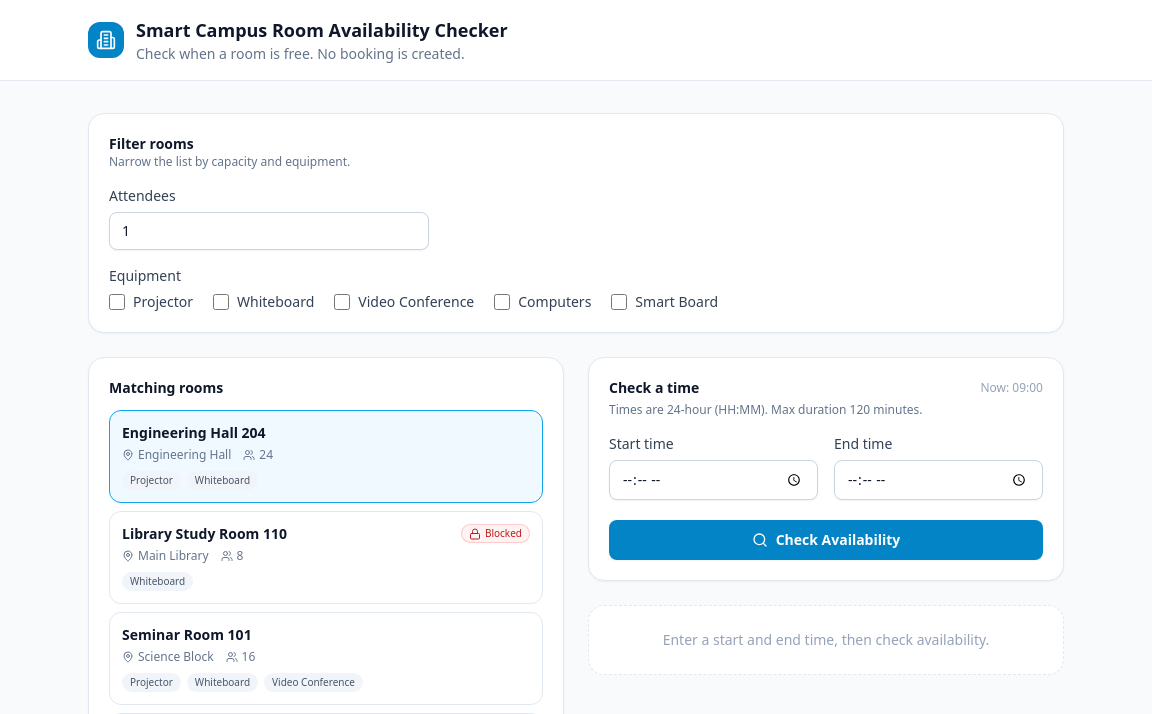
Test: UI integration (fixed clock 09:00) › U4 F3/AC3: the blocked room stays visible but a free slot is reported Unavailable
Step 1. Click the button "Library Study Room 110 Main Library 8 Blocked Whiteboard" → (204, 534), box [109,511,543,604]
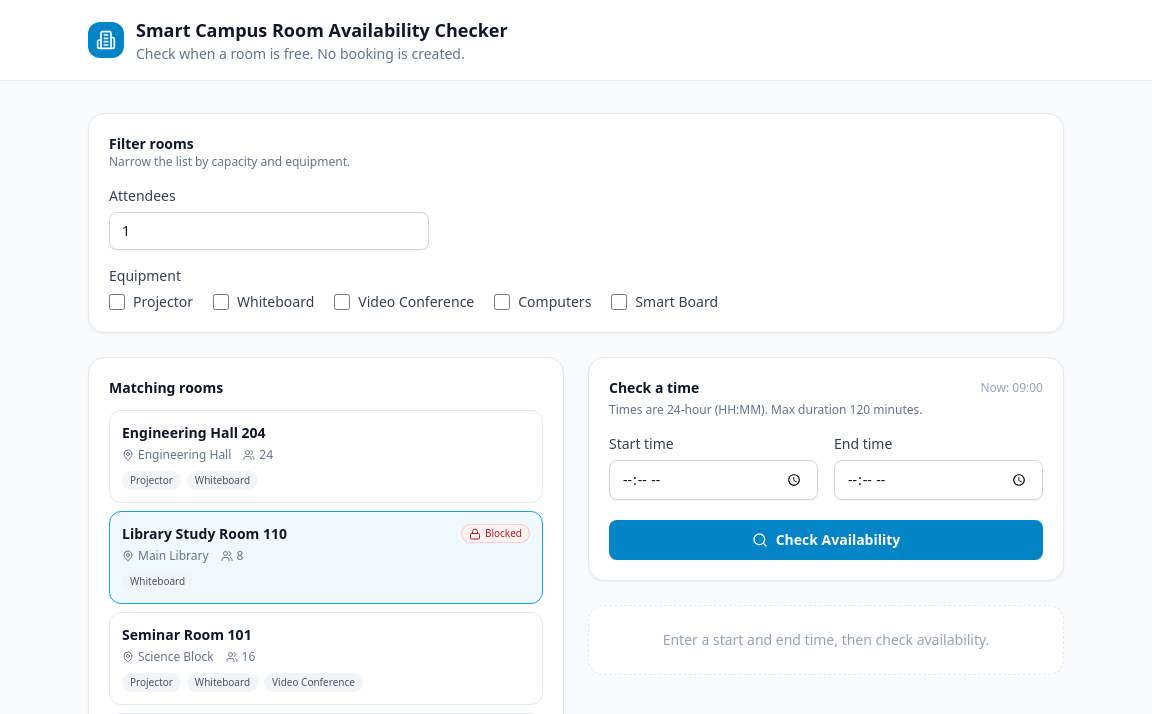
Step 2. Type "12:00" into the time field labelled "Start time" → (714, 480), box [609,460,818,500]
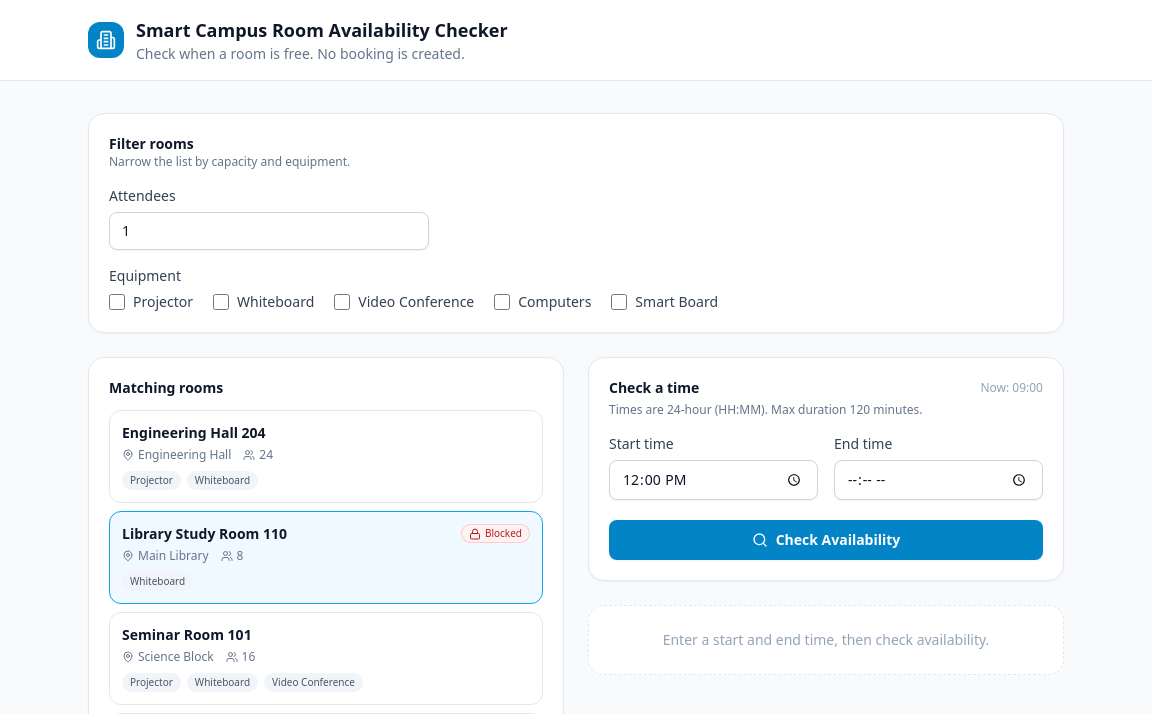
Step 3. Type "13:00" into the time field labelled "End time" → (938, 480), box [834,460,1043,500]
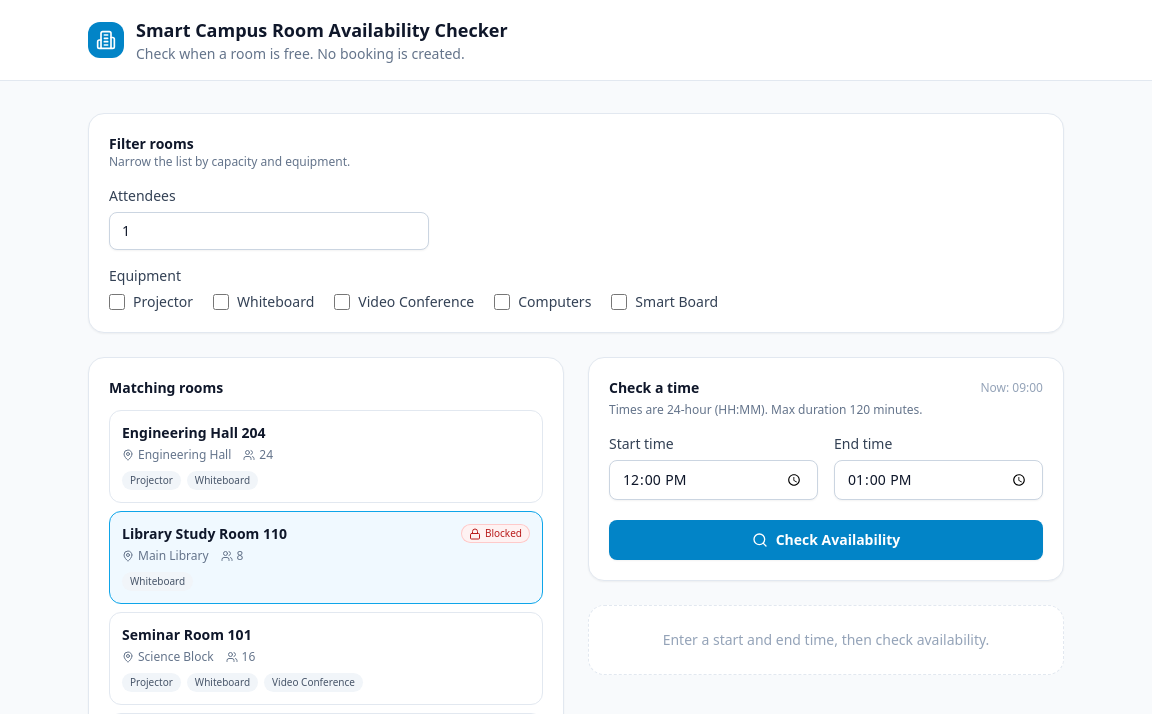
Step 4. Click the button "Check Availability" → (826, 540), box [609,520,1043,560]
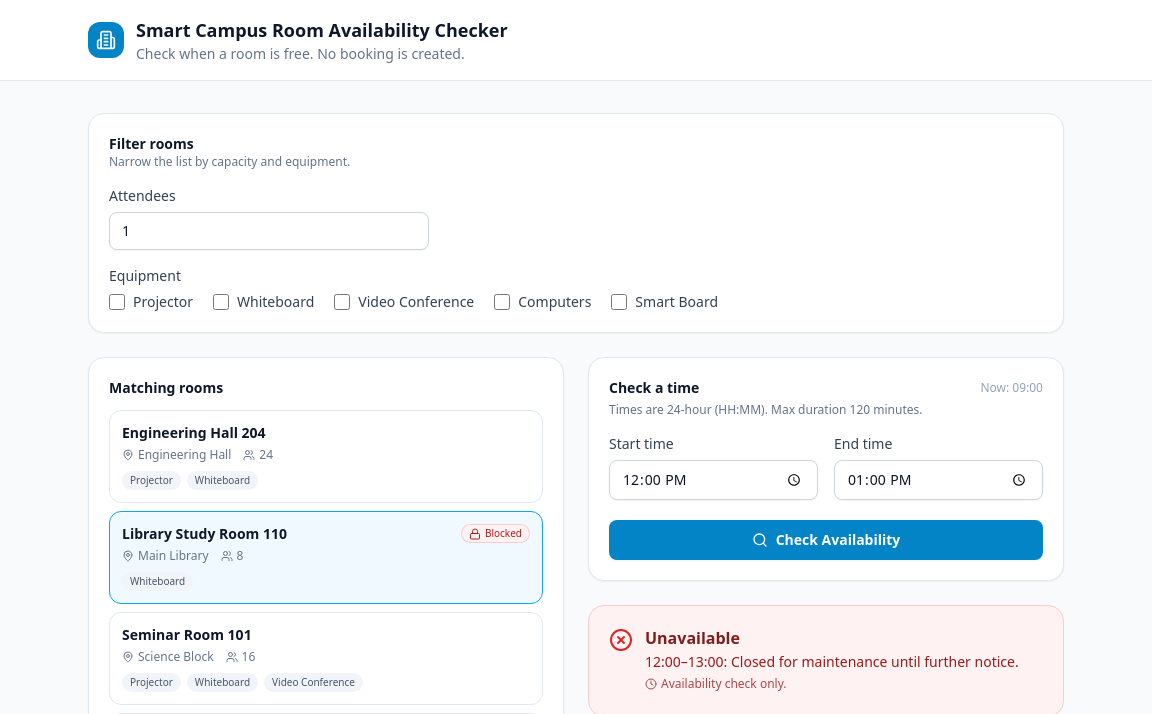
Result: the message shows "Unavailable" at [645,627,740,649]
Result: the message shows "Closed for maintenance" at [731,652,1019,671]
